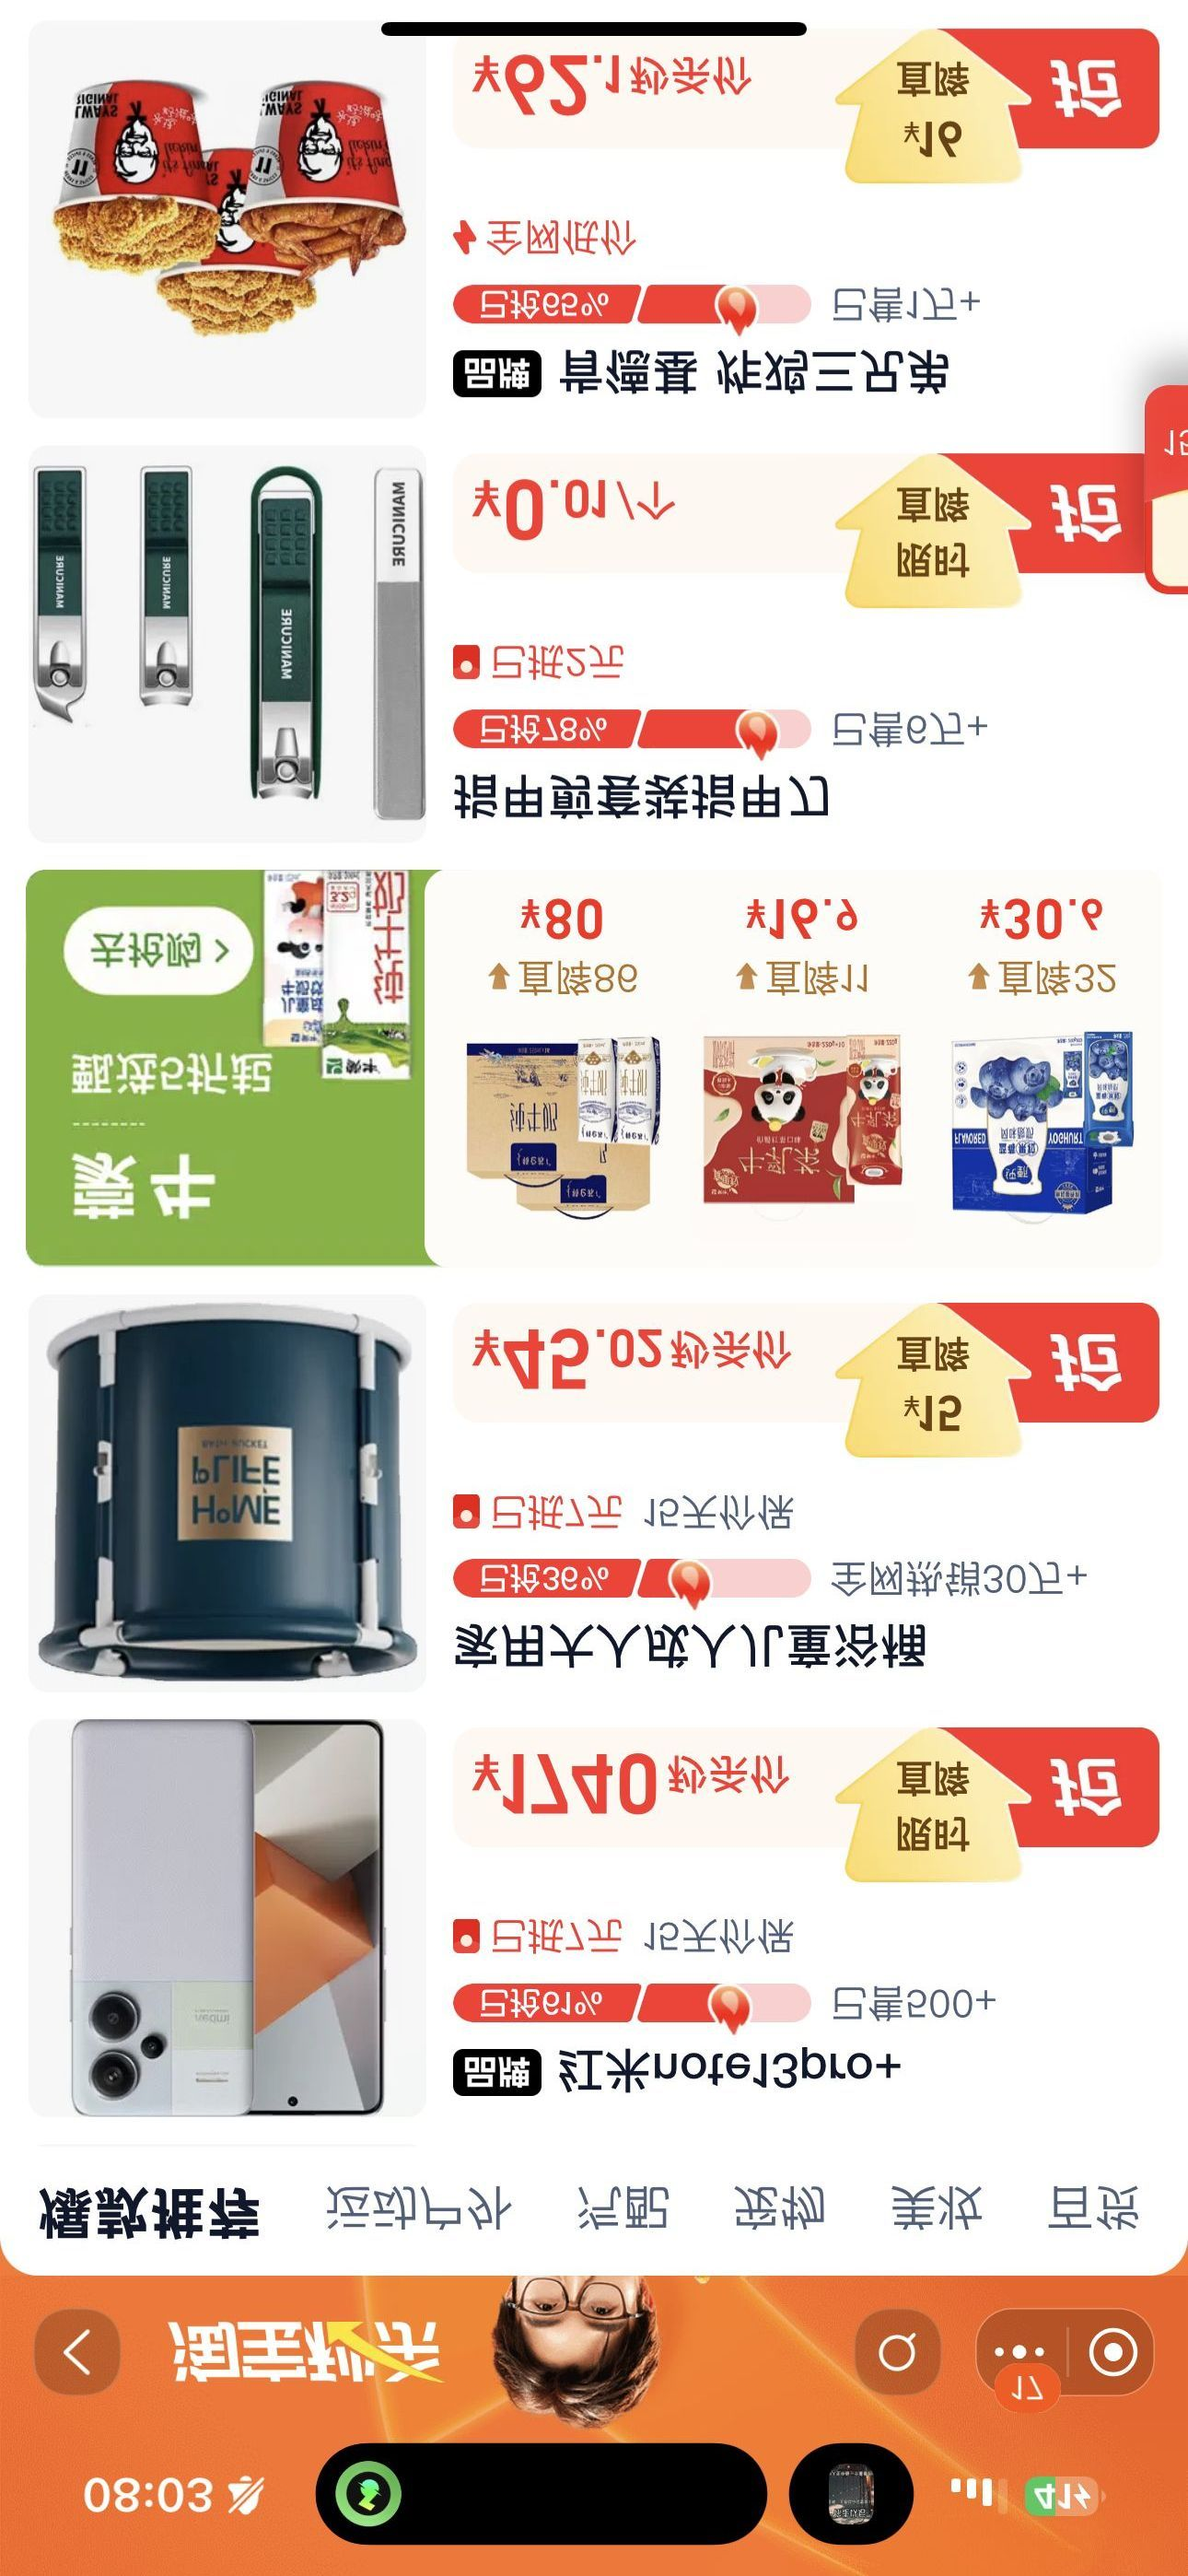item: (21, 1709, 1178, 2150), (16, 1275, 1185, 1690), (13, 858, 1181, 1260), (13, 435, 1178, 836)
op_bar: (10, 2285, 1167, 2413)
